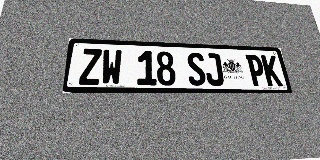1: (137, 50, 157, 85)
8: (156, 51, 176, 86)
J: (203, 53, 225, 86)
K: (261, 55, 283, 86)
P: (245, 54, 267, 86)
S: (186, 52, 207, 86)
W: (101, 49, 122, 85)
Z: (79, 48, 102, 85)
